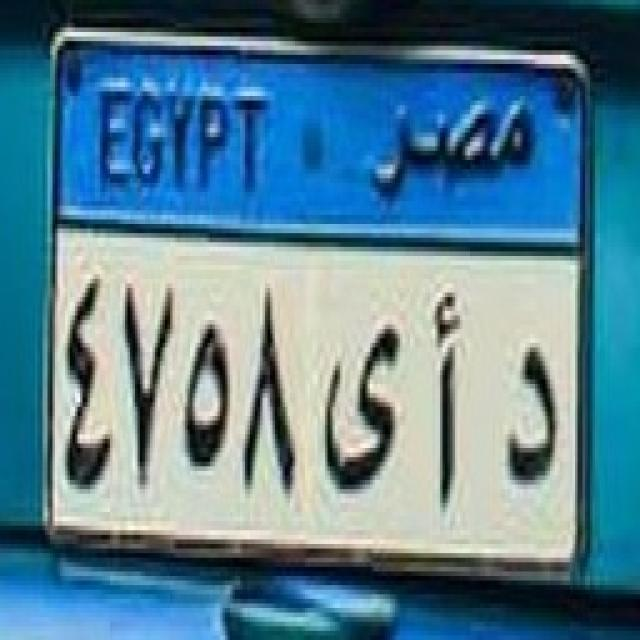4: (51, 262, 118, 489)
5: (183, 310, 234, 482)
7: (122, 280, 180, 490)
8: (239, 282, 300, 517)
Yeeh: (318, 306, 406, 508)
alef: (422, 284, 476, 524)
daal: (501, 330, 568, 497)
